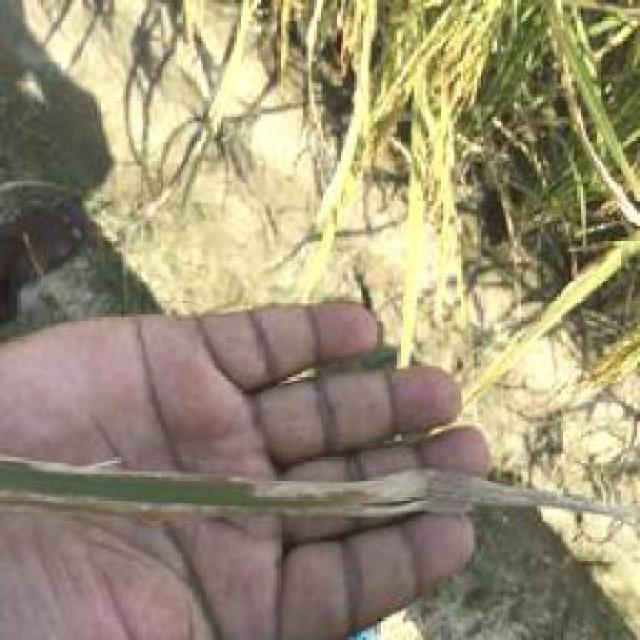Brown_Spot: (11, 440, 606, 526)
